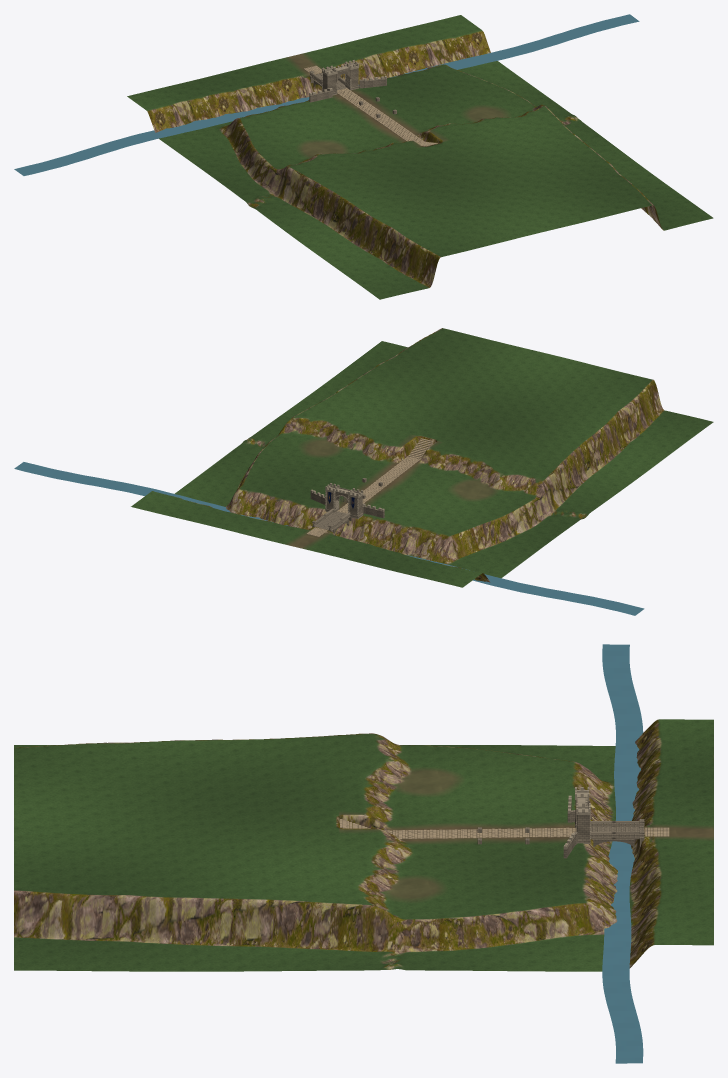
The model's file is ValoriaEntryZoneV6.glb.
The picture shows the model from 3 angles, top to bottom: view 1: azimuth 30°, elevation 25°; view 2: azimuth 150°, elevation 25°; view 3: azimuth 270°, elevation 25°; orthographic projection. The views are drawn at different scales.
Parts seen in each view (by area): view 1: ValoriaEntryTerrainV6, V3_V2_VALORIA_RIVER_CONTINUOUS_RIPPLED_WATER, ENTRY_AUTHORED_STONE_ROAD_AND_TWELVE_TREADS; view 2: ValoriaEntryTerrainV6, V3_V2_VALORIA_RIVER_CONTINUOUS_RIPPLED_WATER, ENTRY_AUTHORED_STONE_ROAD_AND_TWELVE_TREADS; view 3: ValoriaEntryTerrainV6, V3_V2_VALORIA_RIVER_CONTINUOUS_RIPPLED_WATER, ENTRY_AUTHORED_STONE_ROAD_AND_TWELVE_TREADS.
Part boxes in pixels (<box>): ValoriaEntryTerrainV6: <box>127,15,713,299</box>; V3_V2_VALORIA_RIVER_CONTINUOUS_RIPPLED_WATER: <box>14,14,639,175</box>; ENTRY_AUTHORED_STONE_ROAD_AND_TWELVE_TREADS: <box>304,65,437,146</box>; ValoriaEntryTerrainV6: <box>131,328,713,587</box>; V3_V2_VALORIA_RIVER_CONTINUOUS_RIPPLED_WATER: <box>14,462,644,615</box>; ENTRY_AUTHORED_STONE_ROAD_AND_TWELVE_TREADS: <box>306,438,433,536</box>; ValoriaEntryTerrainV6: <box>14,719,713,971</box>; V3_V2_VALORIA_RIVER_CONTINUOUS_RIPPLED_WATER: <box>602,644,643,1063</box>; ENTRY_AUTHORED_STONE_ROAD_AND_TWELVE_TREADS: <box>340,819,669,839</box>.
Size of the model in its own units: 166 by 11.66 by 118.
8 materials, 6 textured.
